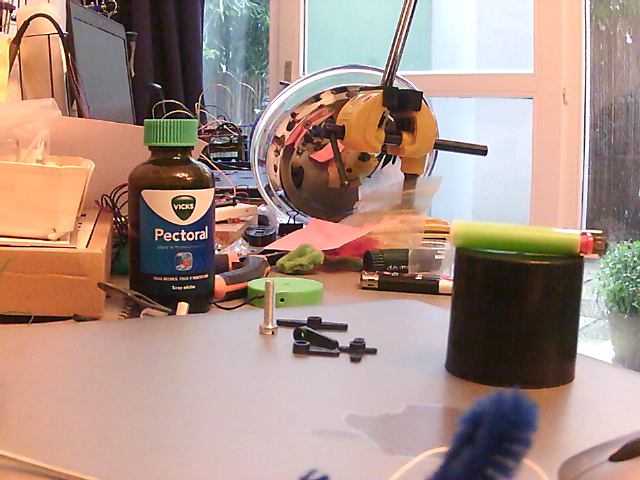bolt: (260, 276, 279, 335)
lighter: (445, 217, 610, 261)
